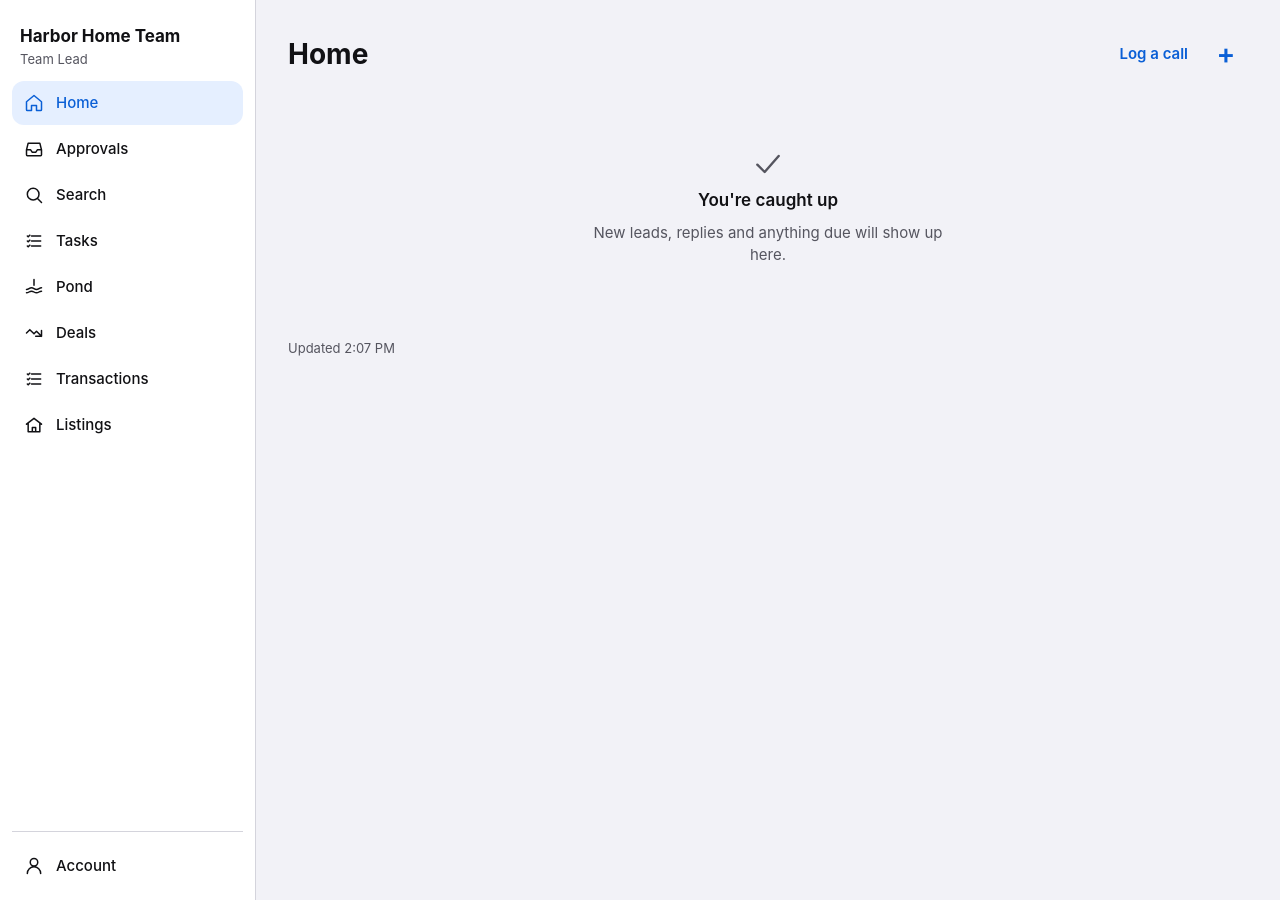
it: M11 (R-TODAY-18): "Recent people" is the caller’s own recent activity › the picker reads the caller’s own recent people, never the People page’s list (the system’s activity; the whole team’s for a Team Lead)
This screenshot has width=1280, height=900.
Click the button with aria-label "Log a call or conversation" at (1154, 54), box x1=1112 y1=32 x2=1196 y2=76
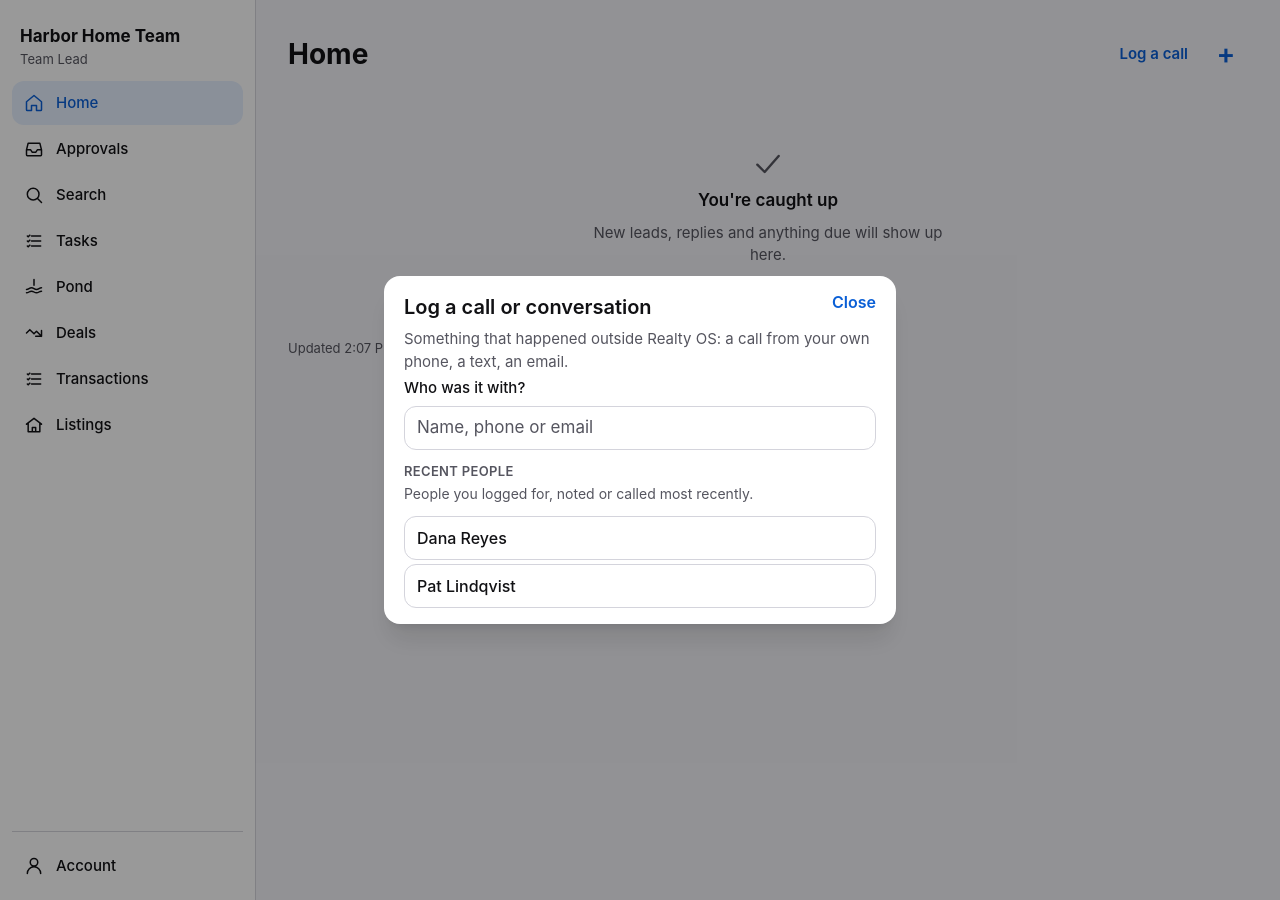
expect the text "People you logged for, noted or called most recently." is shown: met, box x1=404 y1=485 x2=753 y2=502
